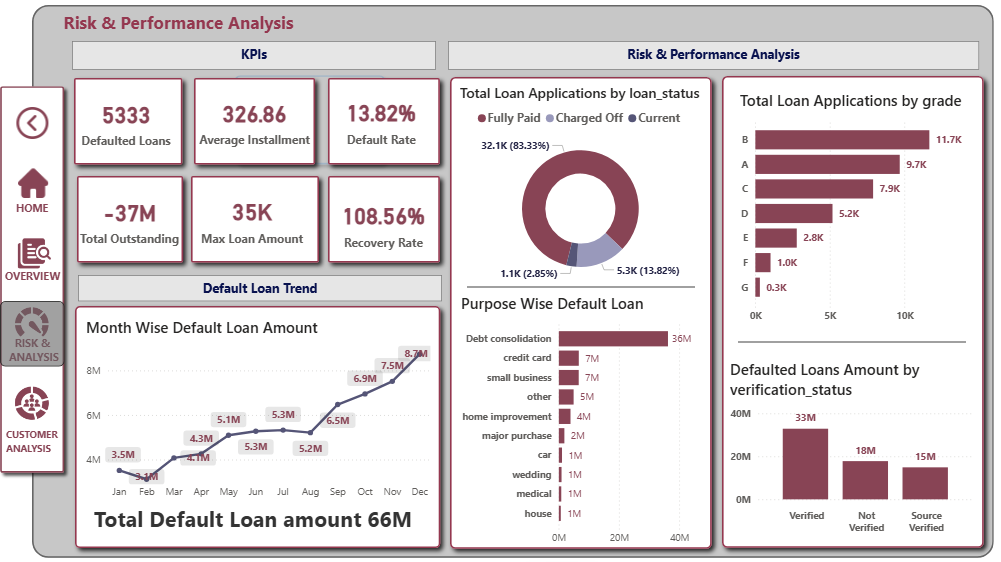

This screenshot's page, from the dashboard's own definition file:
{"tool":"powerbi","page":{"name":"Risk and Performance","canvas":[1280,720],"ordinal":1},"visuals":[{"type":"shape","box":[301.1,88.8,207.4,129.5],"z":0},{"type":"shape","box":[57.6,10.1,1202.4,691.2],"z":1000},{"type":"shape","box":[100.3,90.9,155.5,128.2],"z":2000},{"type":"shape","box":[8.6,102.2,97.9,501.1],"z":3000},{"type":"textbox","box":[18.7,335.5,93.6,30.2],"z":4000},{"type":"textbox","box":[240.5,482.4,92.2,36],"z":5000},{"type":"textbox","box":[18.7,419,82.1,49],"z":6000},{"type":"shape","box":[250,90.9,171.4,128.2],"z":7000},{"type":"shape","box":[103.2,213.3,152.6,128.2],"z":8000},{"type":"textbox","box":[33.1,250.6,59,31.7],"z":9000},{"type":"card","fields":{"Values":["All_Measure.Average Installment"]},"box":[250,102.4,171.4,103.7],"z":10000},{"type":"card","fields":{"Values":["All_Measure.Total Outstanding"]},"box":[108.9,226.3,141.1,103.7],"z":11000},{"type":"shape","box":[417.1,90.9,159.8,128.2],"z":12000},{"type":"card","fields":{"Values":["All_Measure.Default Rate"]},"box":[435.8,112.5,115.2,83.5],"z":13000},{"type":"shape","box":[245.7,213.3,180,128.2],"z":14000},{"type":"card","fields":{"Values":["All_Measure.Max Loan Amount"]},"box":[261.6,236.3,142.6,83.5],"z":15000},{"type":"card","fields":{"Values":["All_Measure.Defaulted Loans"]},"box":[104.6,121.1,139.7,69.1],"z":16000},{"type":"shape","box":[417.1,213.3,159.8,128.2],"z":17000},{"type":"card","fields":{"Values":["All_Measure.Recovery Rate"]},"box":[431.5,233.5,131,97.9],"z":18000},{"type":"shape","box":[570.6,90.6,347.2,609.8],"z":19000},{"type":"shape","box":[100.8,375.8,476.6,322.6],"z":20000},{"type":"donutChart","fields":{"Category":["financial_loan.loan_status"],"Y":["All_Measure.Total Loan Applications"]},"box":[587.2,107.2,310.9,259.6],"z":21000},{"type":"lineChart","title":"Month Wise Default Loan Amount","fields":{"Category":["Date Table.Month"],"Y":["All_Measure.Defaulted Loans Amount"]},"box":[119.5,400.3,440.6,236.2],"z":22000},{"type":"clusteredBarChart","title":"Purpose Wise Default Loan","fields":{"Category":["financial_loan.purpose"],"Y":["All_Measure.Defaulted Loans Amount"]},"box":[589,370.1,309.6,324],"z":23000},{"type":"shape","box":[910.2,89.1,347.2,609.8],"z":24000},{"type":"columnChart","fields":{"Category":["financial_loan.verification_status"],"Y":["All_Measure.Defaulted Loans Amount"]},"box":[925.3,452.8,315.5,226.4],"z":25000},{"type":"clusteredBarChart","fields":{"Y":["All_Measure.Total Loan Applications"],"Category":["financial_loan.grade"]},"box":[937.4,116.2,300.4,300.4],"z":26000},{"type":"textbox","box":[122.4,629.3,426.2,59],"z":27000},{"type":"textbox","box":[108,54.7,455,36],"z":28000},{"type":"shape","box":[940.4,395.5,285.3,72.5],"z":29000},{"type":"shape","box":[600.8,326,285.3,72.5],"z":30000},{"type":"textbox","box":[577.4,54.7,663.8,36],"z":31000},{"type":"textbox","box":[115.2,347,455,33.1],"z":32000},{"type":"image","box":[30.2,132.5,56.2,50.4],"z":33000},{"type":"image","box":[15.8,481,82.1,53.3],"z":34000},{"type":"image","box":[25.9,380.2,61.9,51.8],"z":35000},{"type":"image","box":[34.6,205.9,47.5,53.3],"z":36000},{"type":"image","box":[28.8,292.3,61.9,56.2],"z":37000},{"type":"textbox","box":[20.2,532.8,89.3,50.4],"z":38000},{"type":"shape","box":[17.3,380.2,80.6,82.1],"z":39000},{"type":"textbox","box":[33.1,13,416.2,41.8],"z":40000}]}

Visuals, with their boxes on the page's 1280x720 design canvas (x1, y1, x2, y2). These are canvas units, not pixel positions in the 1001x562 screenshot, which may show the page scaled, cropped or inside an application window:
shape: crop(301, 89, 508, 218)
shape: crop(58, 10, 1260, 701)
shape: crop(100, 91, 256, 219)
shape: crop(9, 102, 106, 603)
textbox: crop(19, 336, 112, 366)
textbox: crop(240, 482, 333, 518)
textbox: crop(19, 419, 101, 468)
shape: crop(250, 91, 421, 219)
shape: crop(103, 213, 256, 342)
textbox: crop(33, 251, 92, 282)
card - All_Measure.Average Installment: crop(250, 102, 421, 206)
card - All_Measure.Total Outstanding: crop(109, 226, 250, 330)
shape: crop(417, 91, 577, 219)
card - All_Measure.Default Rate: crop(436, 112, 551, 196)
shape: crop(246, 213, 426, 342)
card - All_Measure.Max Loan Amount: crop(262, 236, 404, 320)
card - All_Measure.Defaulted Loans: crop(105, 121, 244, 190)
shape: crop(417, 213, 577, 342)
card - All_Measure.Recovery Rate: crop(432, 234, 562, 331)
shape: crop(571, 91, 918, 700)
shape: crop(101, 376, 577, 698)
donutChart - financial_loan.loan_status x All_Measure.Total Loan Applications: crop(587, 107, 898, 367)
"Month Wise Default Loan Amount" lineChart: crop(120, 400, 560, 636)
"Purpose Wise Default Loan" clusteredBarChart: crop(589, 370, 899, 694)
shape: crop(910, 89, 1257, 699)
columnChart - financial_loan.verification_status x All_Measure.Defaulted Loans Amount: crop(925, 453, 1241, 679)
clusteredBarChart - All_Measure.Total Loan Applications x financial_loan.grade: crop(937, 116, 1238, 417)
textbox: crop(122, 629, 549, 688)
textbox: crop(108, 55, 563, 91)
shape: crop(940, 396, 1226, 468)
shape: crop(601, 326, 886, 398)
textbox: crop(577, 55, 1241, 91)
textbox: crop(115, 347, 570, 380)
image: crop(30, 132, 86, 183)
image: crop(16, 481, 98, 534)
image: crop(26, 380, 88, 432)
image: crop(35, 206, 82, 259)
image: crop(29, 292, 91, 348)
textbox: crop(20, 533, 110, 583)
shape: crop(17, 380, 98, 462)
textbox: crop(33, 13, 449, 55)
